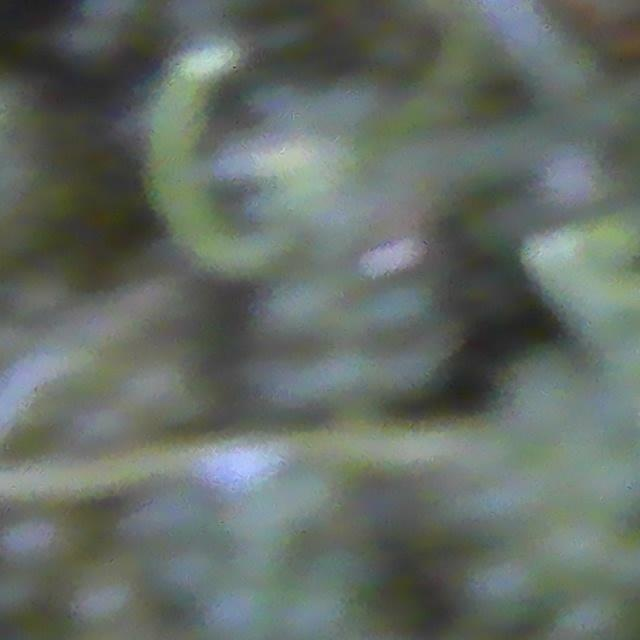SeaGrape: (462, 548, 544, 626), (540, 511, 615, 585)
